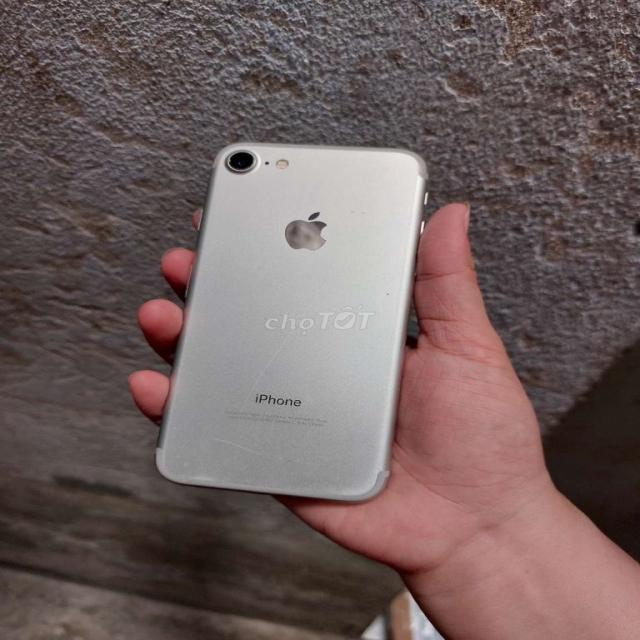gen_7_8: (156, 135, 432, 500)
scratch: (233, 254, 341, 403), (198, 428, 286, 462), (214, 140, 275, 182), (185, 467, 225, 486)
